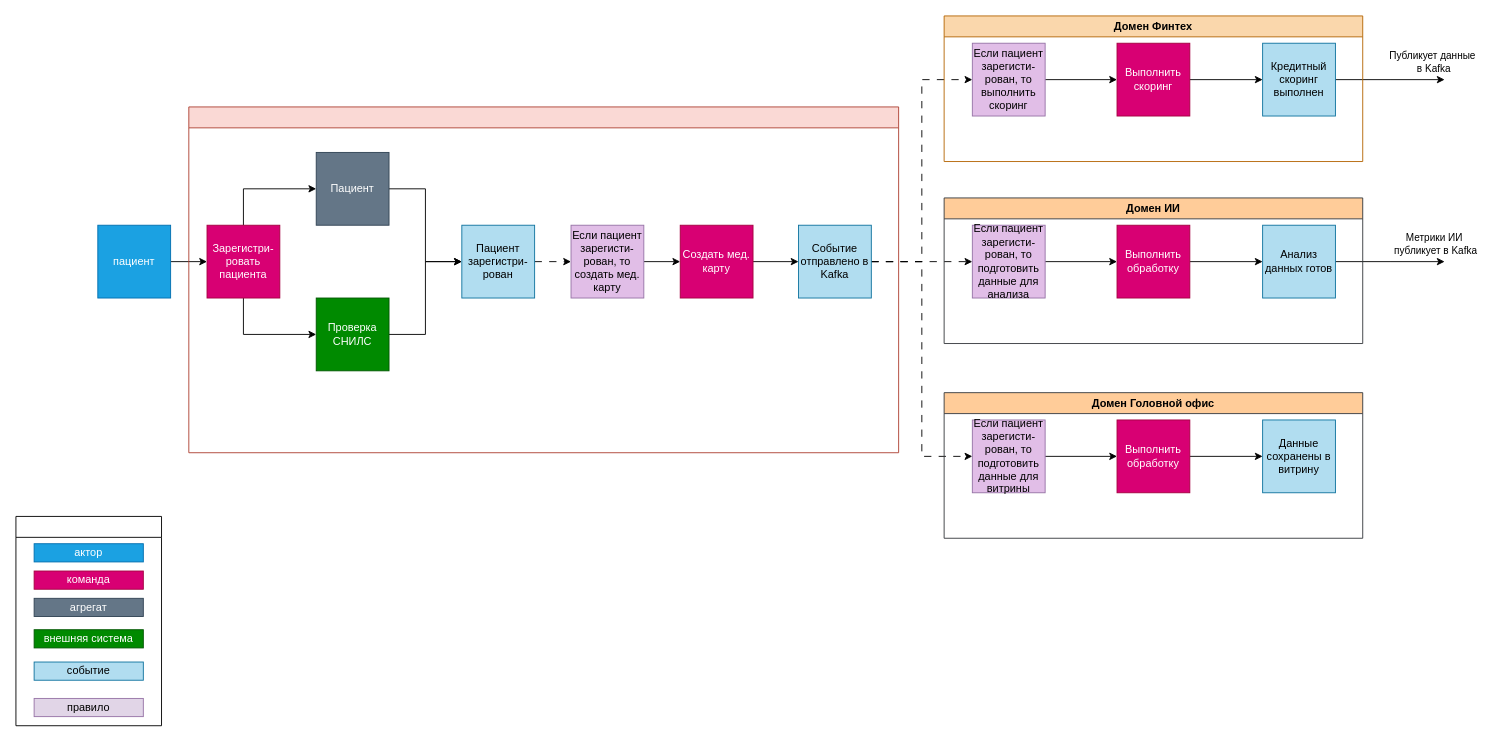
This 1494x742 diagram has some shape labels left out. The box of each missing label's shape, as (x1, y1, x2, y2) in pixels:
Домен Клиники: (188, 106, 899, 453)
Легенда: (15, 516, 162, 726)
